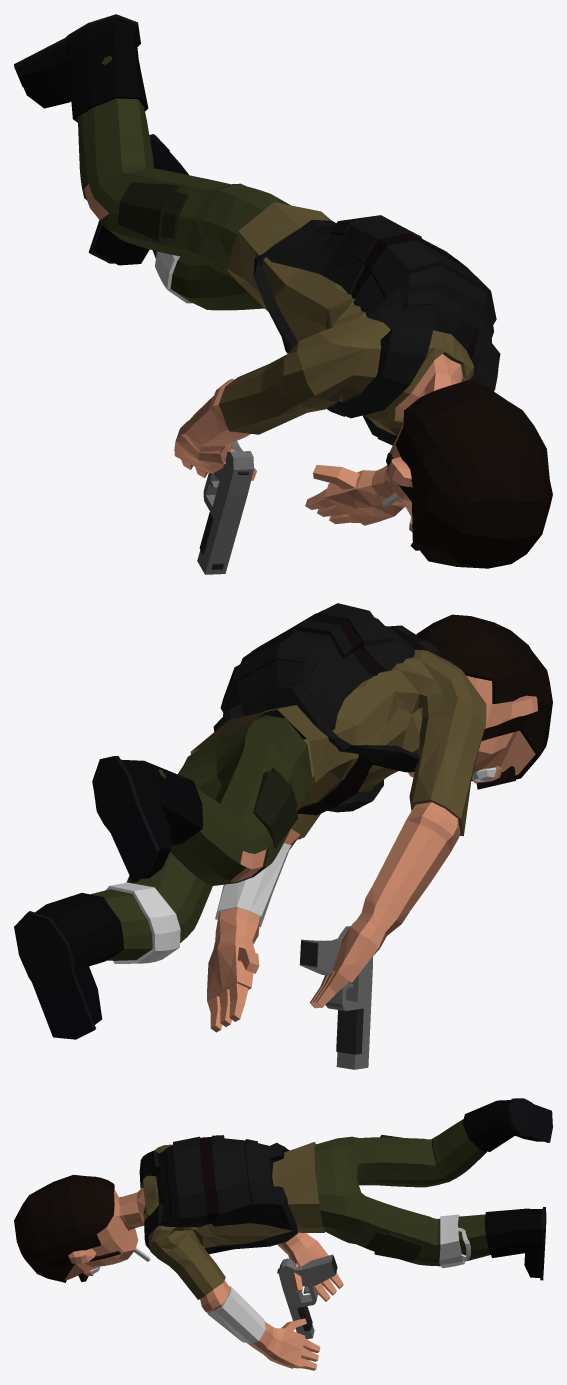
The model's file is frame_0069.obj.
The picture shows the model from 3 angles, top to bottom: view 1: azimuth 30°, elevation 25°; view 2: azimuth 150°, elevation 25°; view 3: azimuth 270°, elevation 25°; orthographic projection. The views are drawn at different scales.
Visible parts, largest first — view 1: Body, Gun; view 2: Body, Gun; view 3: Body, Gun.
Boxes of the visible parts, x1=… form: Body: x1=14, y1=14, x2=552, y2=568; Gun: x1=197, y1=441, x2=253, y2=574; Body: x1=14, y1=603, x2=552, y2=1039; Gun: x1=299, y1=926, x2=372, y2=1069; Body: x1=14, y1=1098, x2=552, y2=1370; Gun: x1=277, y1=1254, x2=337, y2=1339.
Bounding box in the file's own units: 1.32 × 2.22 × 4.15.
